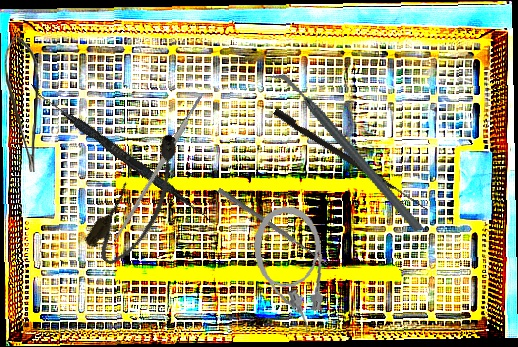Cannula: (80, 127, 201, 273), (250, 202, 330, 338)
Chopper: (270, 45, 423, 259)
Hook Surgical: (271, 107, 433, 212)
Micro Scissor: (3, 37, 40, 172)
Scalpel Handle: (112, 92, 206, 243)
Spatula Surgical: (24, 84, 215, 222)
Surgical Spoon: (216, 187, 330, 267)
